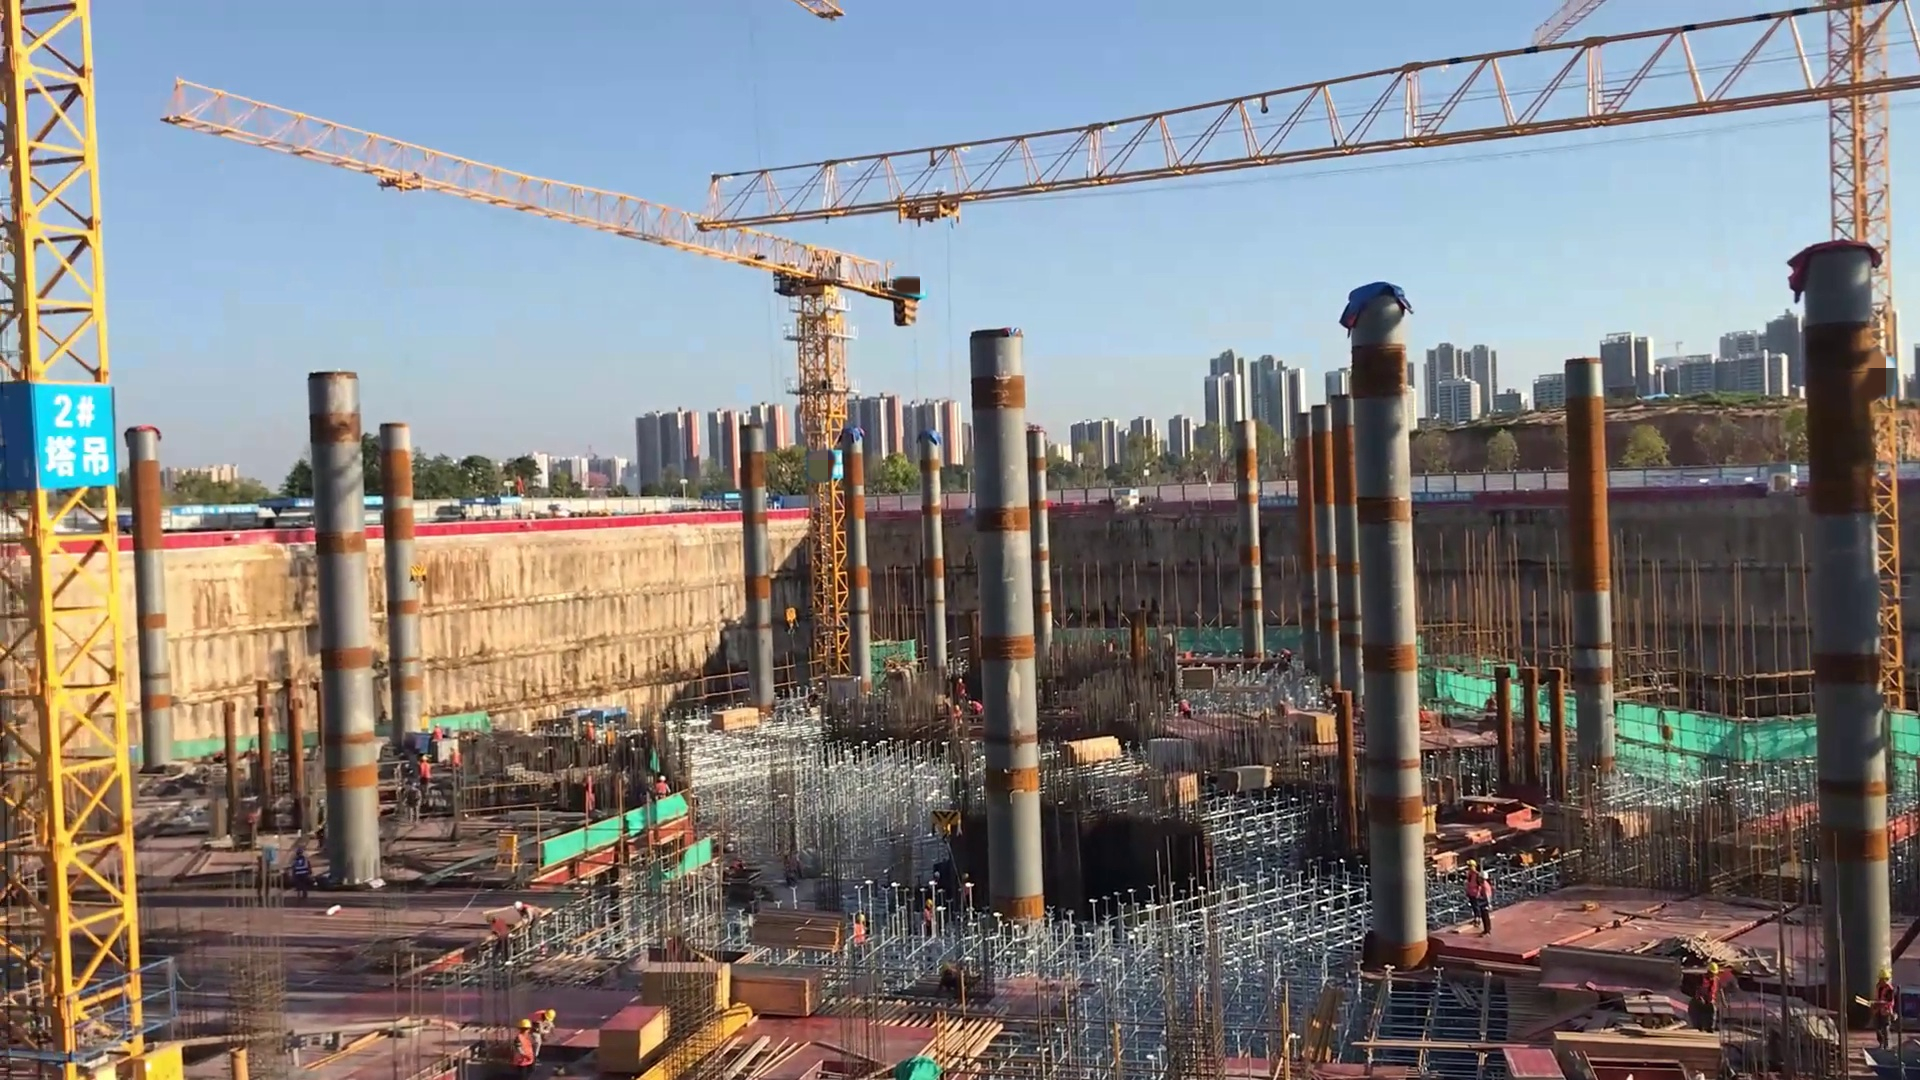helmet: (1876, 967, 1896, 989), (516, 1015, 534, 1037), (483, 910, 499, 930), (541, 1008, 557, 1025), (513, 896, 528, 914), (1729, 962, 1748, 976), (1476, 868, 1492, 883), (1707, 963, 1721, 980), (853, 913, 866, 925), (420, 751, 430, 765), (431, 718, 442, 729), (660, 773, 668, 784), (1467, 858, 1476, 869)
person: (1868, 967, 1910, 1056), (1692, 958, 1727, 1041), (507, 894, 543, 960), (483, 912, 513, 975), (511, 1013, 539, 1080), (531, 1004, 561, 1059), (292, 846, 315, 902), (849, 909, 871, 960), (1713, 961, 1746, 995), (1466, 856, 1481, 932), (1478, 870, 1493, 938), (402, 783, 423, 828), (653, 772, 672, 804), (955, 676, 971, 718), (966, 697, 988, 728), (586, 719, 601, 755), (419, 751, 433, 795), (1177, 694, 1194, 729), (432, 719, 444, 760), (924, 894, 934, 946), (952, 706, 965, 738)
vest: (1871, 983, 1899, 1021), (1697, 975, 1722, 1008), (515, 1033, 535, 1067), (1467, 869, 1479, 904), (291, 857, 310, 880), (854, 924, 867, 947)
